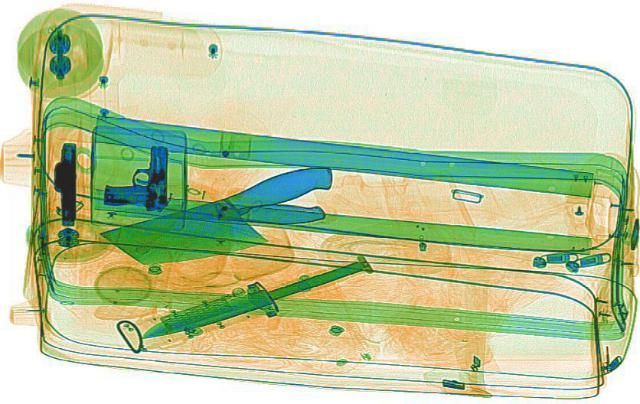Gun: (102, 143, 170, 207), (53, 141, 77, 223)
Knife: (92, 159, 370, 277), (128, 252, 366, 343), (102, 200, 324, 222)
